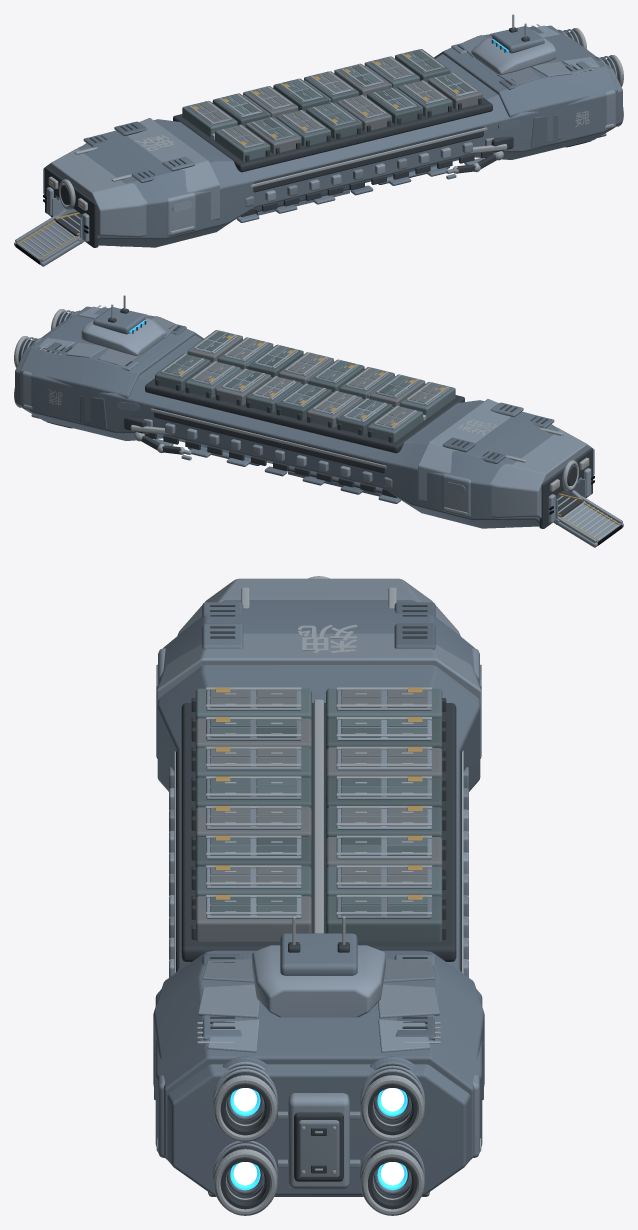
The model's file is wei-supply.glb.
The picture shows the model from 3 angles, top to bottom: view 1: azimuth 30°, elevation 25°; view 2: azimuth 150°, elevation 25°; view 3: azimuth 270°, elevation 25°; orthographic projection. The views are drawn at different scales.
Visible parts, largest first — view 1: Continuous load-bearing keel, Forward plated bow, Aft machinery cowling, Broad center cargo deck, Longitudinal cargo rail, Bridge stepped base, Folded loading ramp, Overlapping side armor.001, Cargo rail wear strip, Recessed docking fascia, Bridge crown, Cargo module -1 1 (+19 smaller); view 2: Continuous load-bearing keel, Forward plated bow, Aft machinery cowling, Broad center cargo deck, Longitudinal cargo rail.001, Bridge stepped base, Folded loading ramp, Overlapping side armor.006, Cargo rail wear strip.001, Recessed docking fascia, Bridge crown, Cargo module 1 1 (+19 smaller); view 3: Continuous load-bearing keel, Aft machinery cowling, Forward plated bow, Broad center cargo deck, Bridge stepped base, Bridge crown, Cargo module 1 8, Cargo module -1 8, Aft drive service cover, Central maintenance seam, Raised service door, Aft upper armor trapezoid.001 (+31 smaller).
Boxes of the visible parts, x1,y1,x2,y2 form: Continuous load-bearing keel: [78, 29, 622, 247]; Forward plated bow: [43, 118, 219, 238]; Aft machinery cowling: [434, 25, 617, 142]; Broad center cargo deck: [173, 97, 492, 172]; Longitudinal cargo rail: [253, 126, 483, 192]; Bridge stepped base: [471, 30, 556, 75]; Folded loading ramp: [14, 222, 84, 266]; Overlapping side armor.001: [167, 193, 195, 236]; Cargo rail wear strip: [251, 127, 487, 187]; Recessed docking fascia: [45, 167, 98, 247]; Bridge crown: [492, 26, 544, 53]; Cargo module -1 1: [215, 124, 270, 161]; Continuous load-bearing keel: [15, 310, 559, 528]; Forward plated bow: [418, 399, 594, 519]; Aft machinery cowling: [20, 306, 203, 423]; Broad center cargo deck: [145, 378, 464, 453]; Longitudinal cargo rail.001: [154, 407, 384, 473]; Bridge stepped base: [81, 311, 166, 356]; Folded loading ramp: [553, 503, 623, 547]; Overlapping side armor.006: [442, 474, 470, 517]; Cargo rail wear strip.001: [150, 408, 386, 468]; Recessed docking fascia: [539, 448, 592, 528]; Bridge crown: [93, 307, 145, 334]; Cargo module 1 1: [367, 405, 422, 442]; Continuous load-bearing keel: [155, 600, 482, 1195]; Aft machinery cowling: [153, 951, 484, 1159]; Forward plated bow: [156, 578, 481, 758]; Broad center cargo deck: [181, 703, 456, 961]; Bridge stepped base: [252, 945, 385, 1017]; Bridge crown: [280, 933, 357, 975]; Cargo module 1 8: [326, 896, 442, 941]; Cargo module -1 8: [195, 896, 311, 941]; Aft drive service cover: [288, 1093, 349, 1189]; Central maintenance seam: [314, 699, 323, 933]; Raised service door: [298, 1120, 339, 1178]; Aft upper armor trapezoid.001: [198, 984, 259, 1018].
Bounding box in the file's own units: 800 × 157 × 200.
